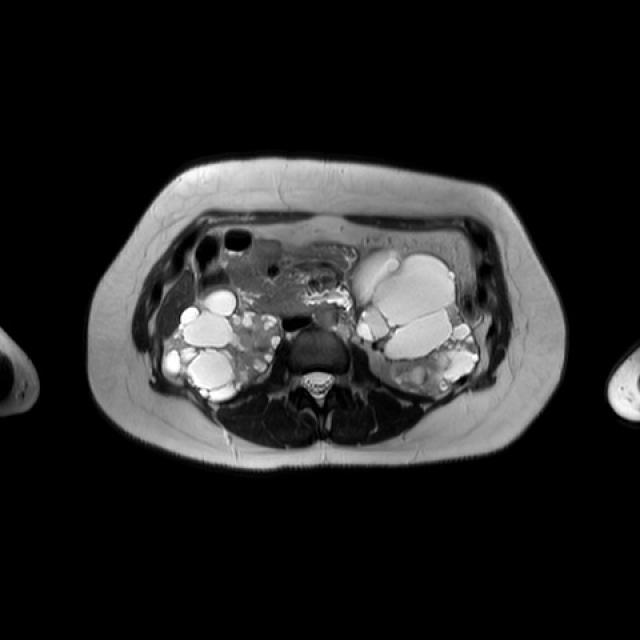sag: (165, 289, 284, 399)
sol: (352, 249, 483, 394)
